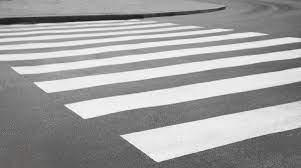crosswalk: (0, 18, 301, 158)
